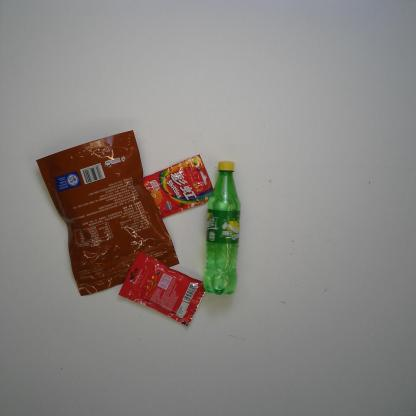Candy: (118, 252, 208, 328), (137, 154, 215, 220)
Dried Food: (36, 129, 180, 296)
Drink: (203, 160, 241, 295)
